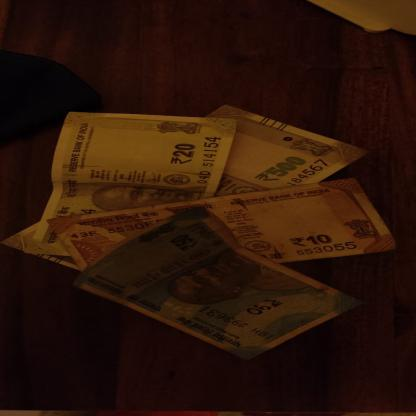New10Front: (50, 178, 399, 272)
New20Front: (25, 112, 237, 256)
New500Front: (0, 104, 371, 272)
New50Front: (72, 206, 368, 362)
